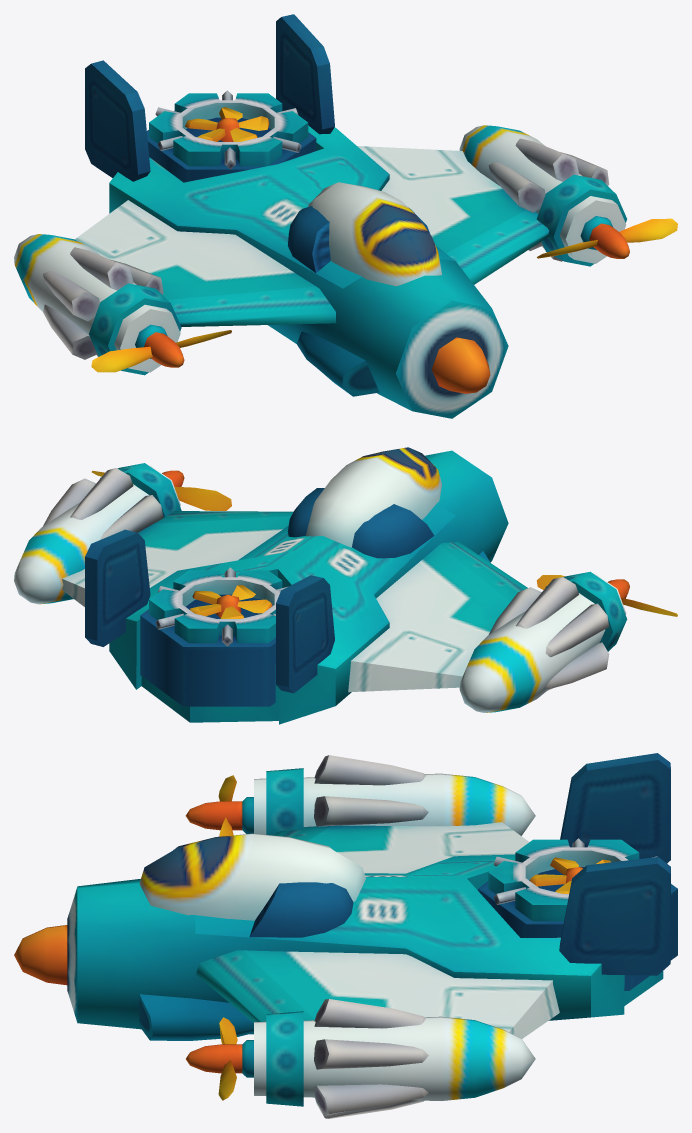
The picture shows the model from 3 angles, top to bottom: view 1: azimuth 30°, elevation 25°; view 2: azimuth 150°, elevation 25°; view 3: azimuth 270°, elevation 25°; orthographic projection. The views are drawn at different scales.
Parts seen in each view (by area): view 1: plane_07_4h30min_, plane_07_4h30min__002, plane_07_4h30min__004, plane_07_4h30min__003, plane_07_4h30min__001; view 2: plane_07_4h30min_, plane_07_4h30min__002, plane_07_4h30min__001, plane_07_4h30min__004, plane_07_4h30min__003; view 3: plane_07_4h30min_, plane_07_4h30min__002, plane_07_4h30min__004, plane_07_4h30min__003, plane_07_4h30min__001.
Boxes of the visible parts, x1=… form: plane_07_4h30min_: x1=14, y1=14, x2=626, y2=418; plane_07_4h30min__002: x1=147, y1=90, x2=316, y2=182; plane_07_4h30min__004: x1=537, y1=216, x2=677, y2=258; plane_07_4h30min__003: x1=91, y1=324, x2=231, y2=372; plane_07_4h30min__001: x1=185, y1=107, x2=269, y2=141; plane_07_4h30min_: x1=14, y1=447, x2=627, y2=724; plane_07_4h30min__002: x1=140, y1=567, x2=287, y2=706; plane_07_4h30min__001: x1=190, y1=585, x2=272, y2=618; plane_07_4h30min__004: x1=91, y1=470, x2=231, y2=510; plane_07_4h30min__003: x1=536, y1=575, x2=677, y2=616; plane_07_4h30min_: x1=14, y1=753, x2=670, y2=1118; plane_07_4h30min__002: x1=478, y1=838, x2=677, y2=990; plane_07_4h30min__004: x1=186, y1=1017, x2=253, y2=1100; plane_07_4h30min__003: x1=185, y1=775, x2=253, y2=836; plane_07_4h30min__001: x1=530, y1=857, x2=610, y2=893.
Bounding box in the file's own units: 190 × 61.89 × 167.
